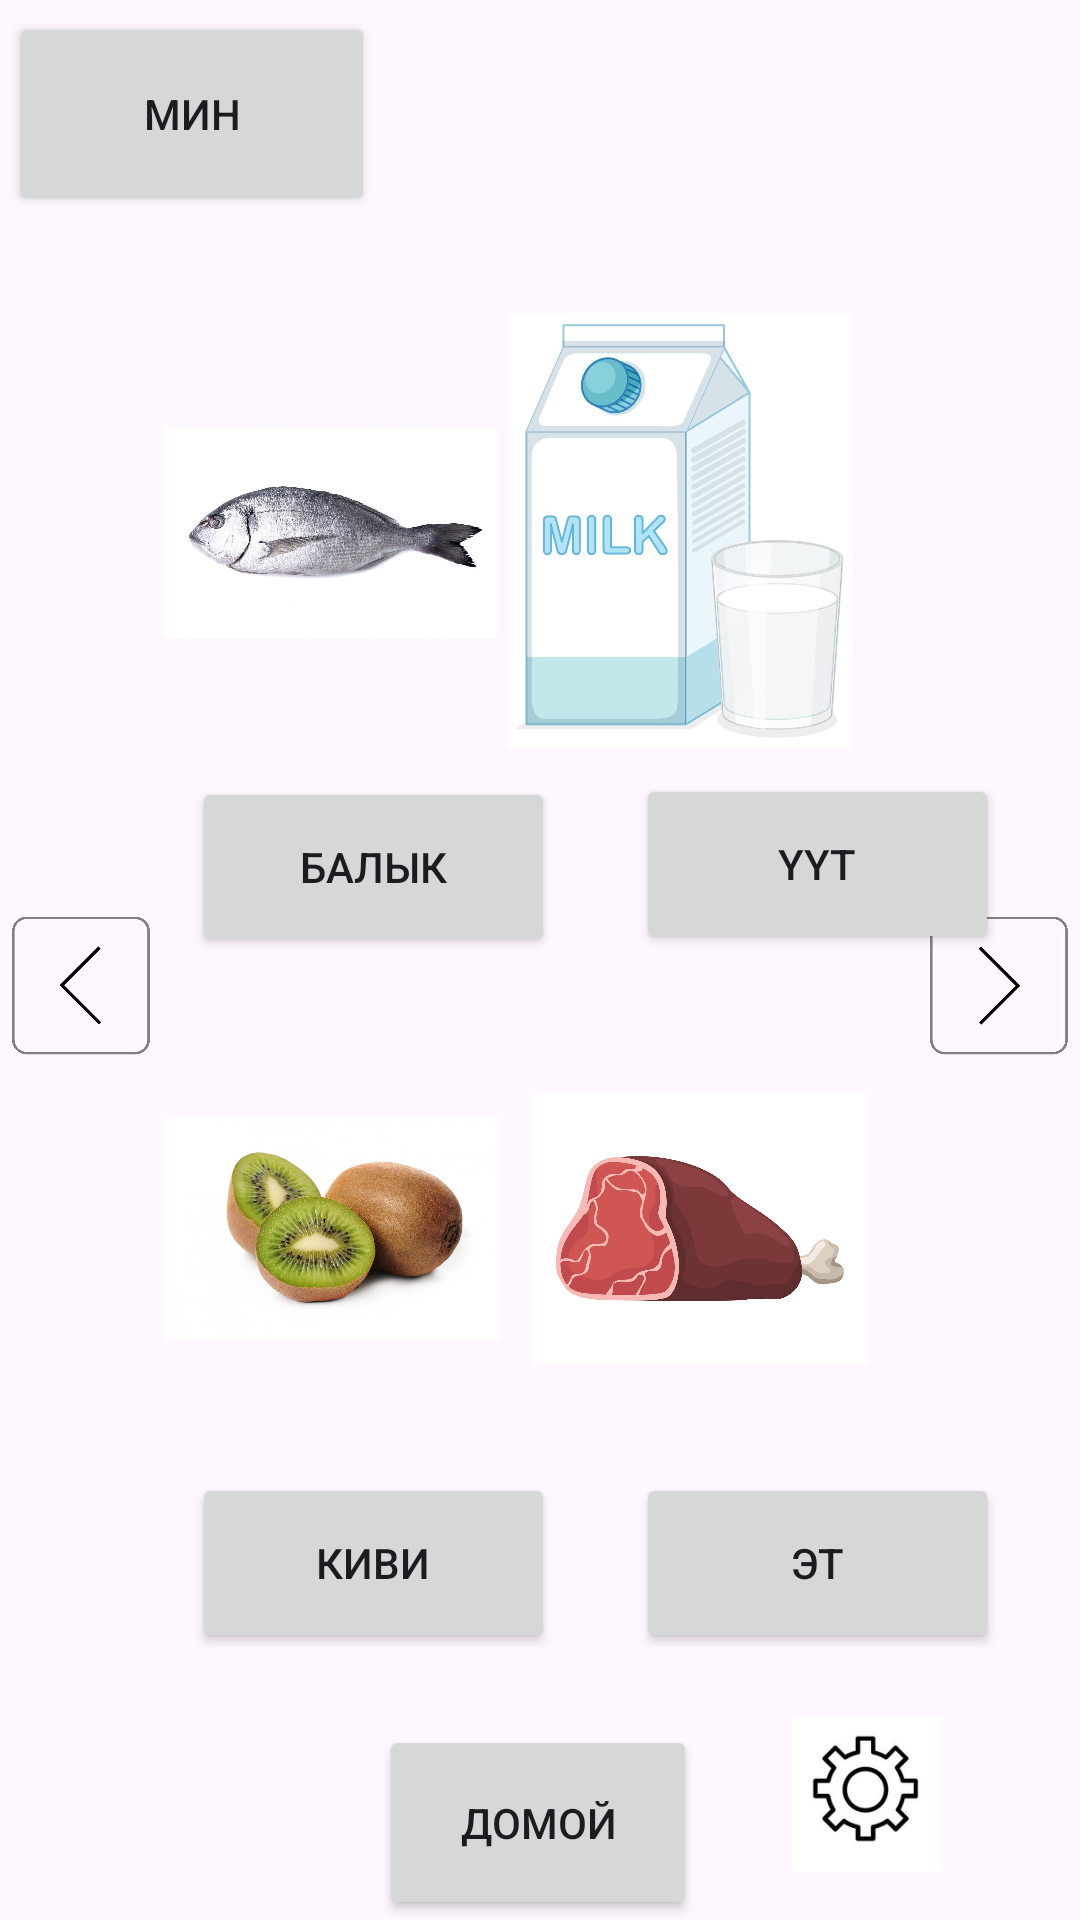

Icon click points for this 1080*1920 phone screenshot, format point (x, y):
fish: point (335, 532)
kiwi: point (344, 1228)
left: point (81, 986)
meat: point (700, 1228)
right: point (999, 977)
settings: point (865, 1789)
